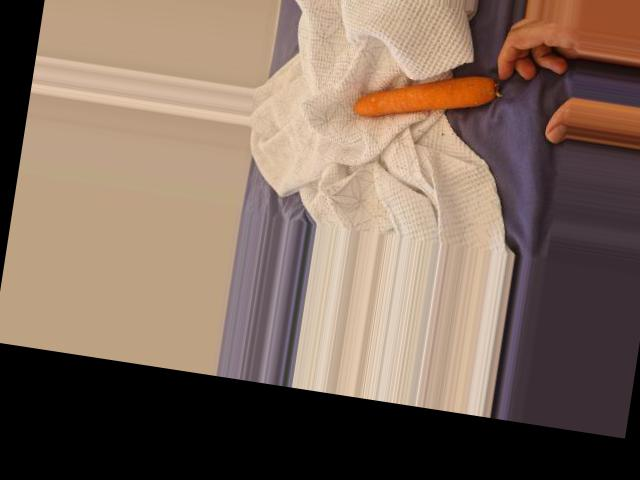carrot: (352, 59, 501, 135)
